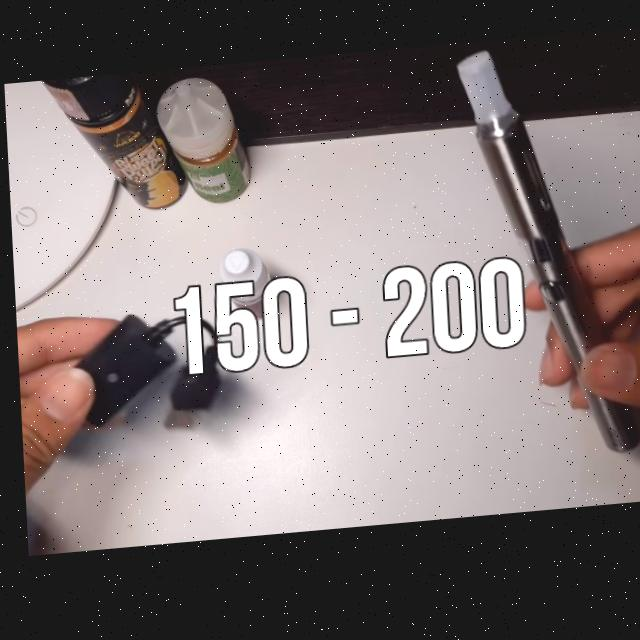vape: (455, 50, 638, 475)
